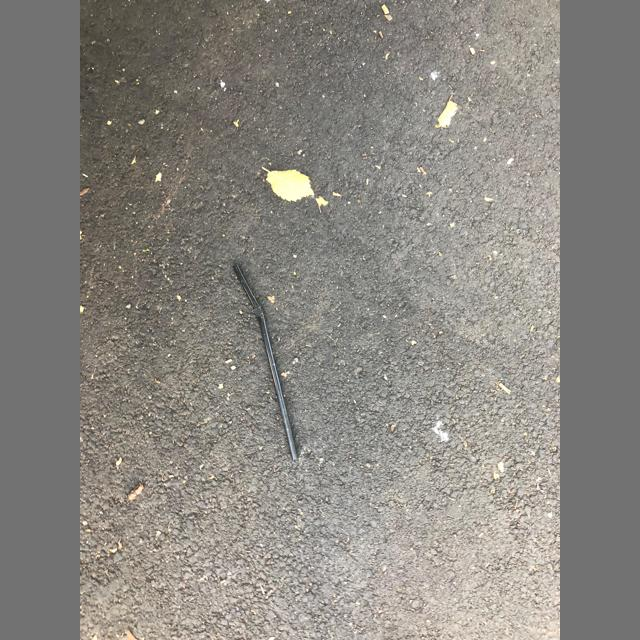litter: (232, 264, 298, 460)
